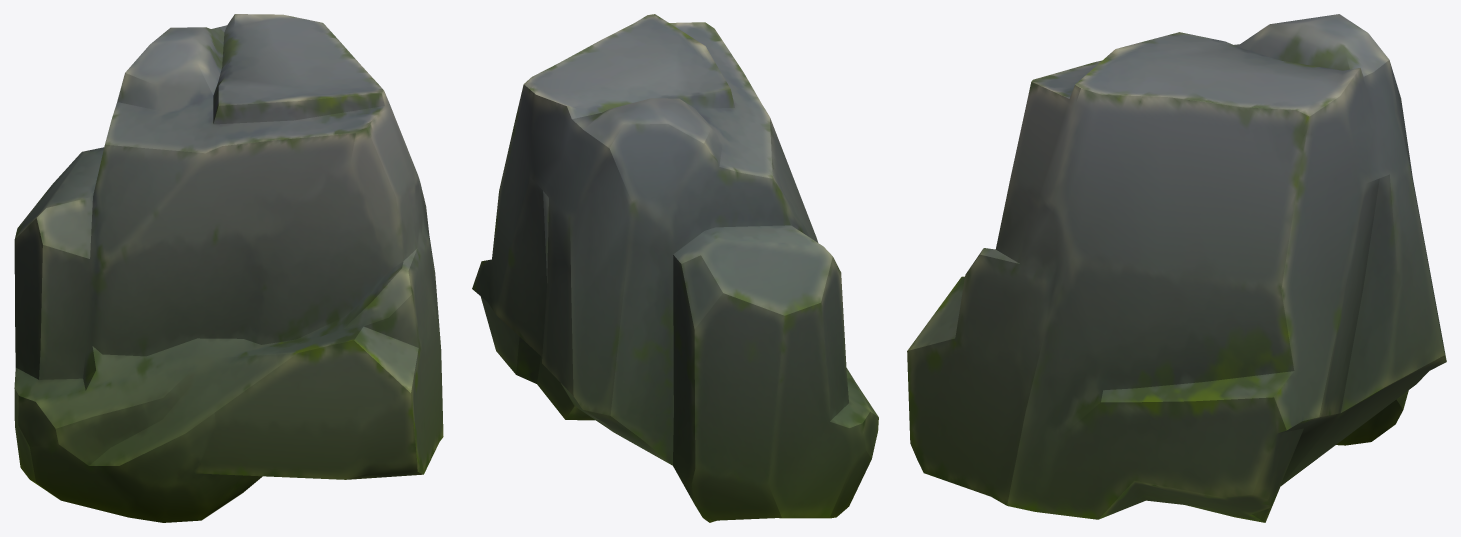
Rendered from rock.glb.
3 renders of one model, left to right at view 1: azimuth 30°, elevation 25°; view 2: azimuth 150°, elevation 25°; view 3: azimuth 270°, elevation 25°, orthographic. The views are drawn at different scales.
Visible parts, largest first — view 1: Rock_Medium_3; view 2: Rock_Medium_3; view 3: Rock_Medium_3.
Part boxes in pixels (bbox=[...]): Rock_Medium_3: bbox=[14, 14, 443, 522]; Rock_Medium_3: bbox=[472, 14, 878, 522]; Rock_Medium_3: bbox=[907, 14, 1446, 522].
Bounding box in the file's own units: 1 × 1 × 1.
Materials: 1 (1 with a texture image).
